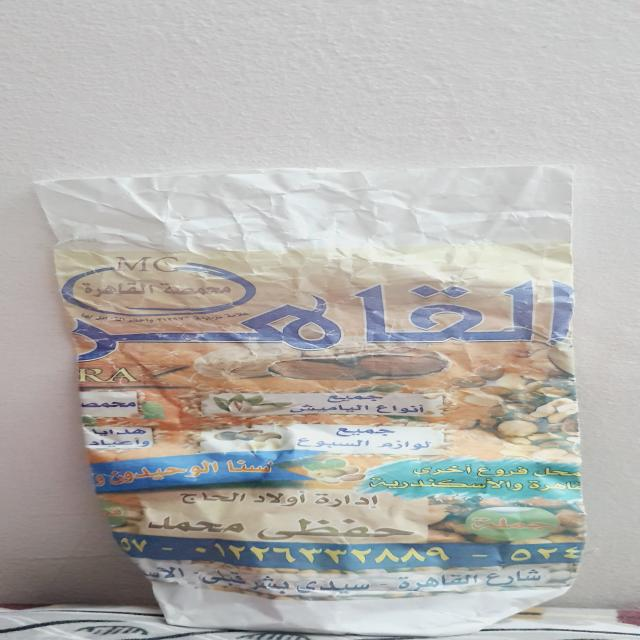cardboard: (34, 164, 587, 635)
